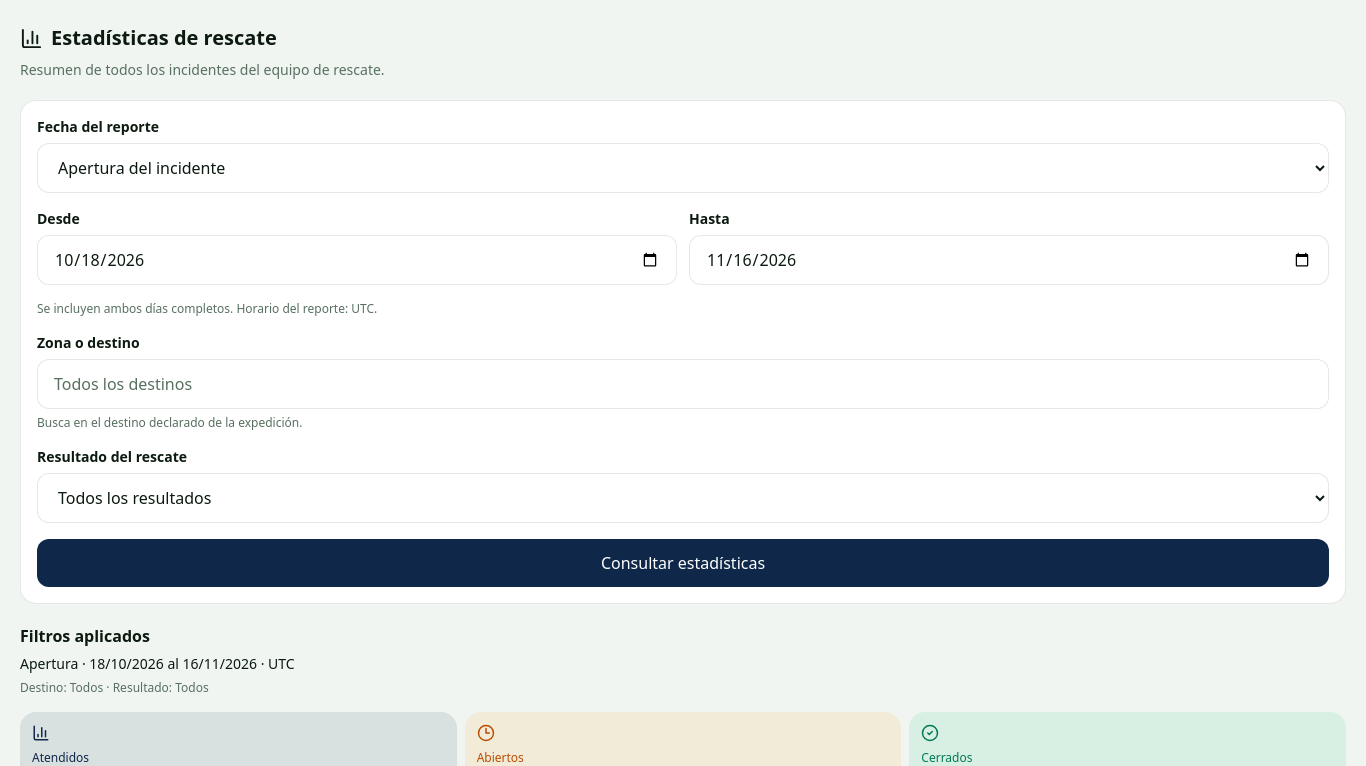
Test: HU-47: pantalla de estadísticas › un rechazo de perfil elimina el reporte anterior
In the search field labelled "Zona o destino": (683, 384) x1=37 y1=359 x2=1329 y2=409, type "Cusco"
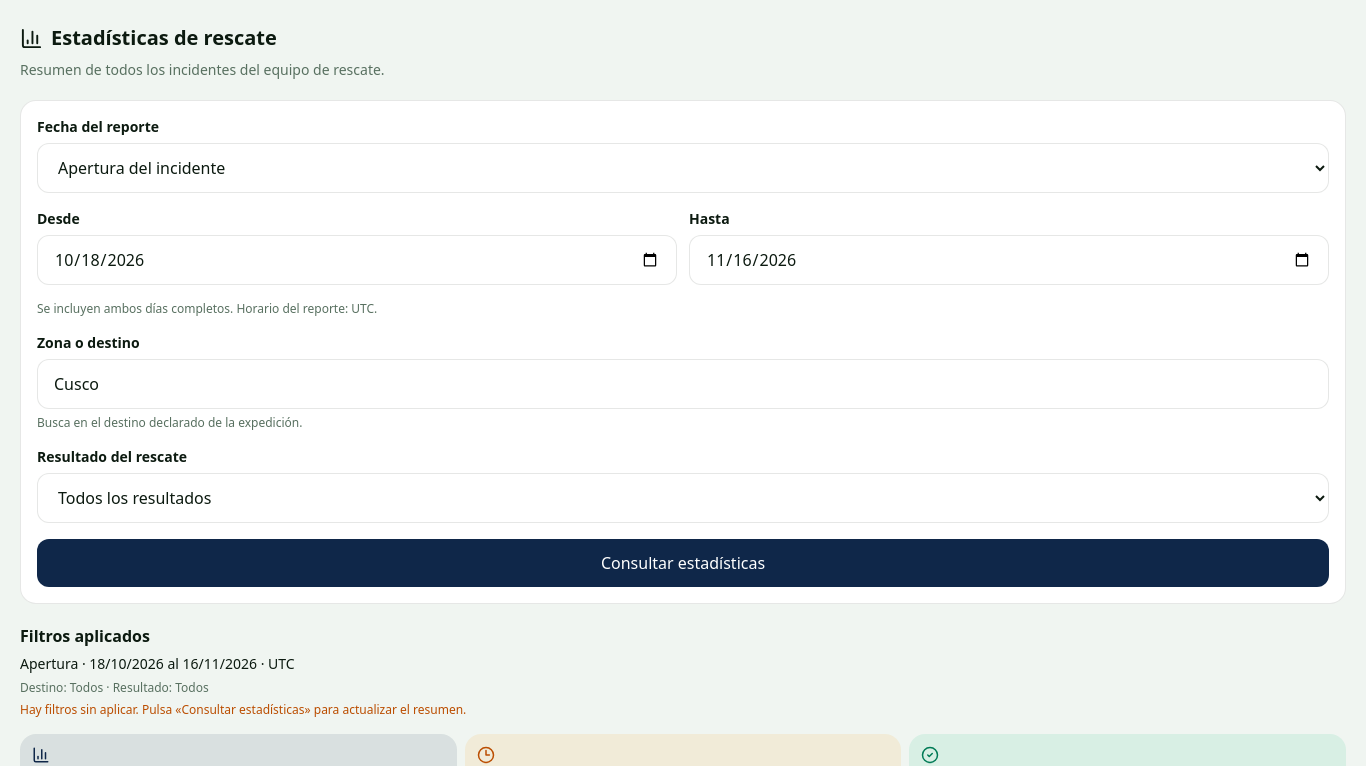
Submit the form
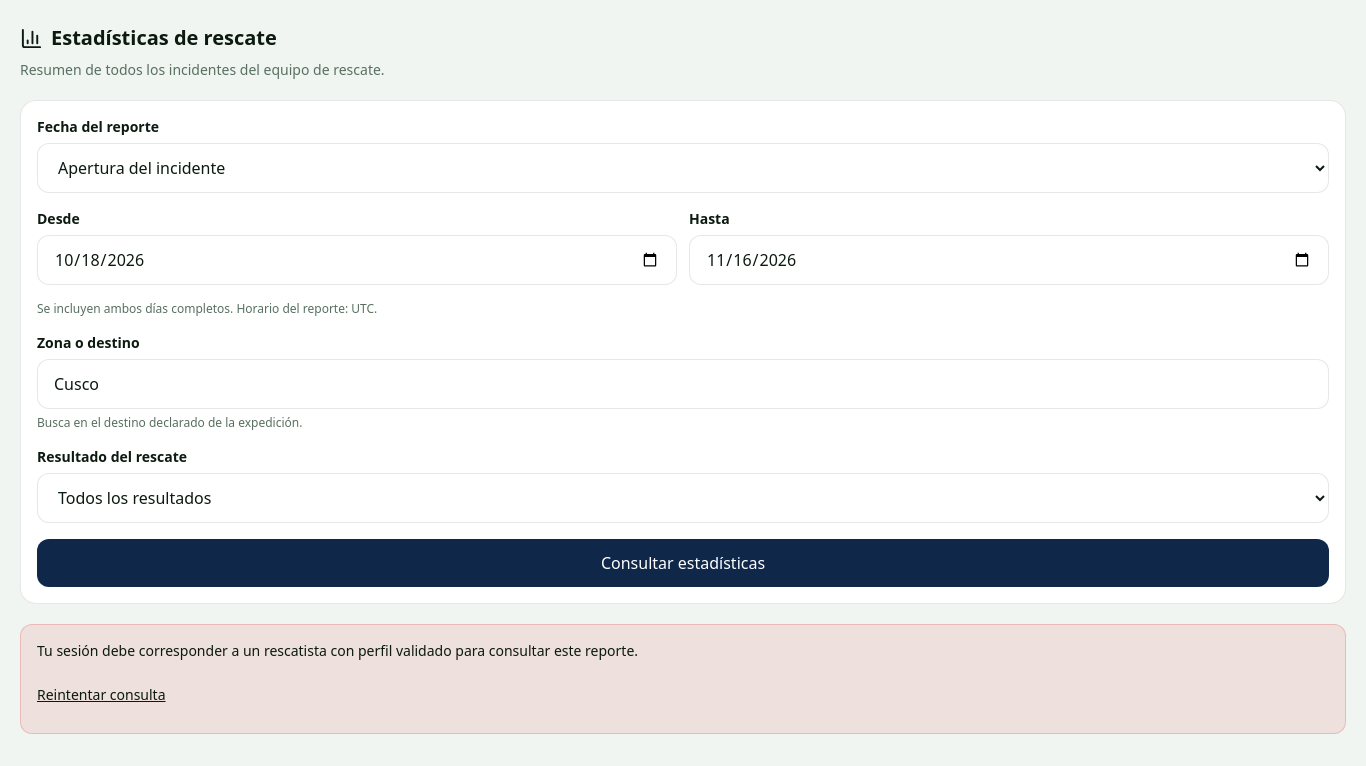
Check: the text "perfil validado" is shown, box x1=37 y1=641 x2=638 y2=660
